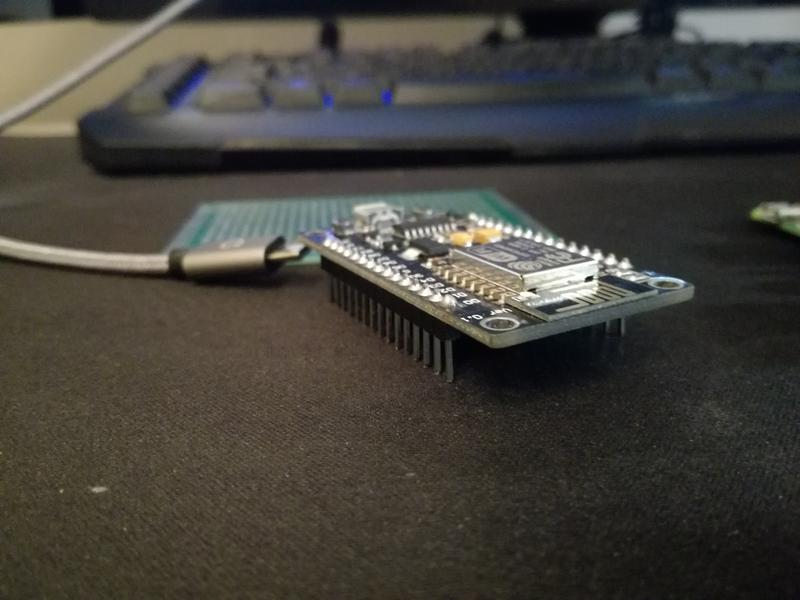ESP8266: (295, 196, 701, 384)
